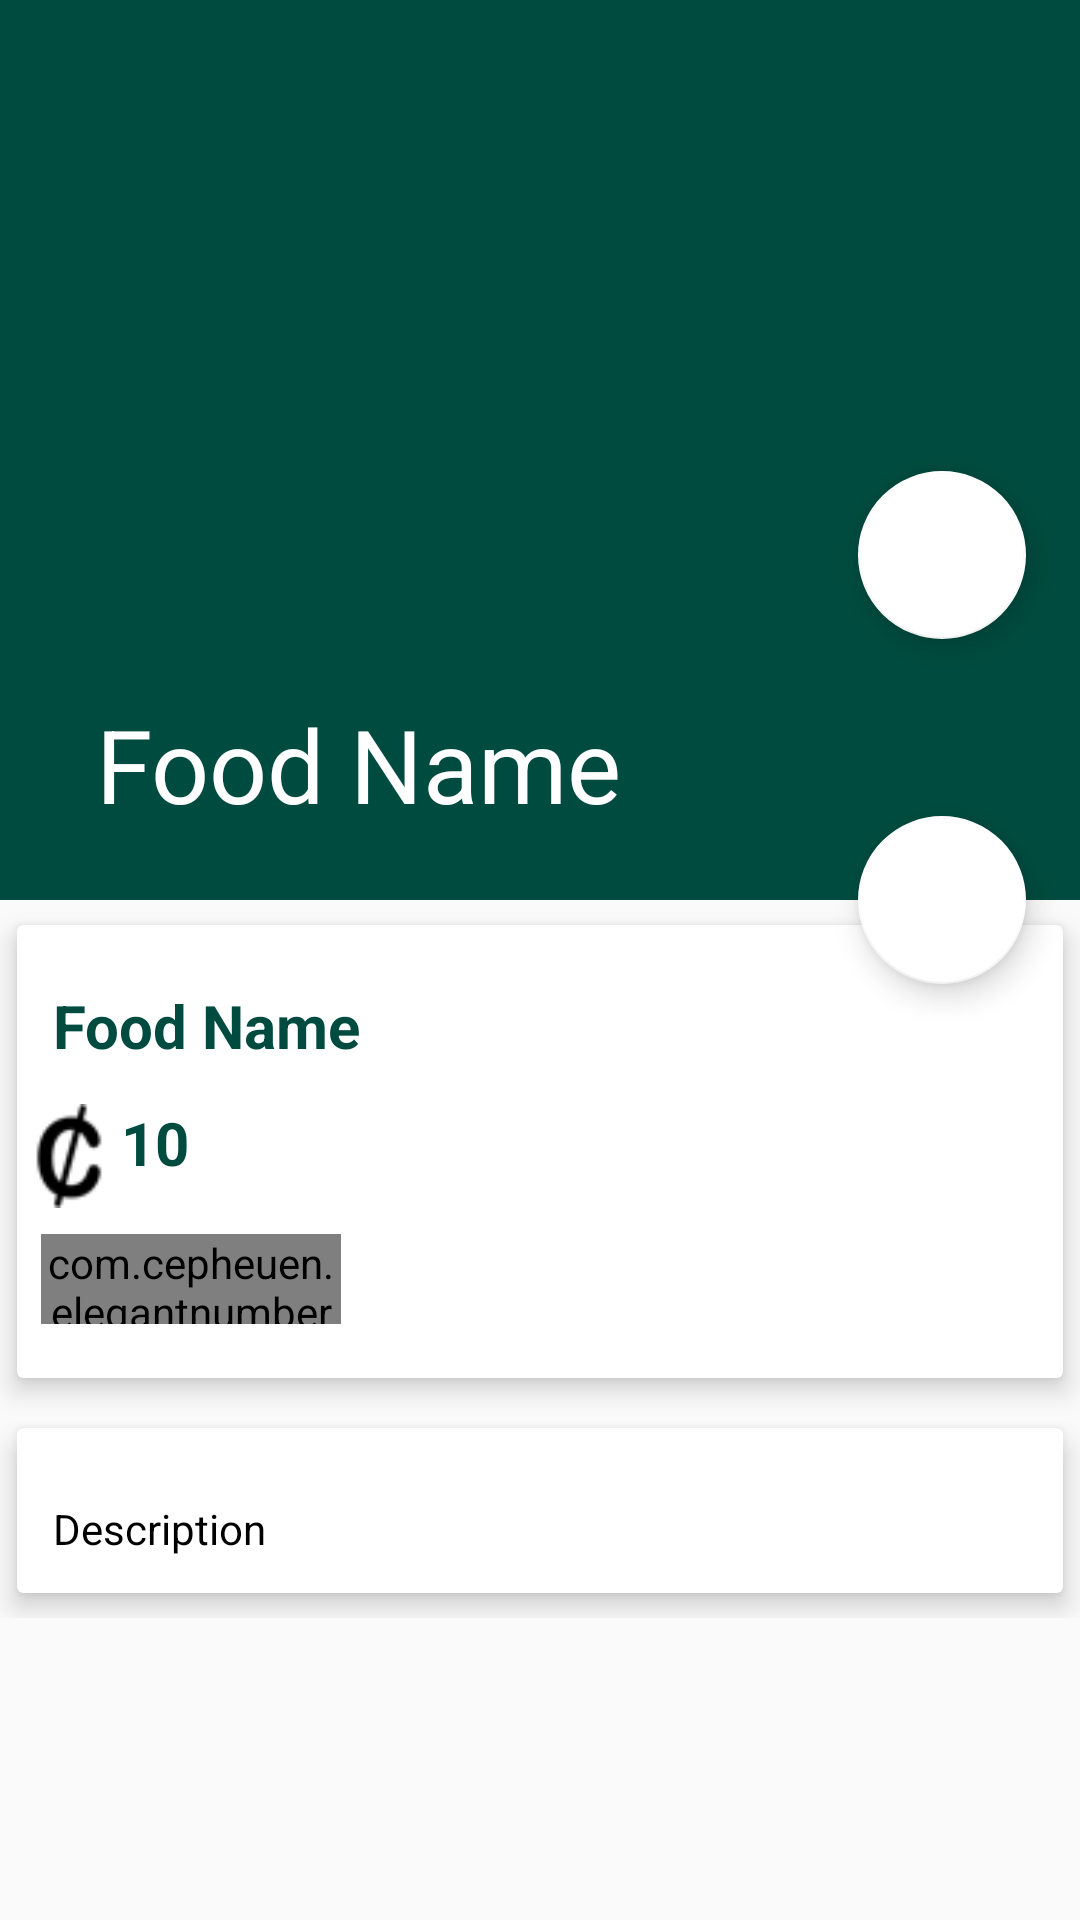

Screen size 1080 × 1920. Icon name, then its box in pixels as (x1, y1, x2, y2):
cedis: (36, 1104, 102, 1208)
